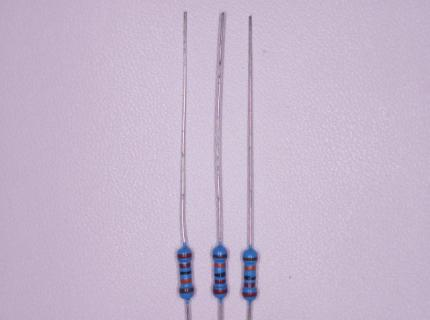Black band: (244, 275, 256, 280), (214, 272, 226, 277), (180, 270, 192, 275)
Brown band: (179, 288, 194, 294), (212, 254, 227, 259), (243, 257, 258, 261)
Orange band: (180, 278, 192, 284), (214, 263, 226, 268), (244, 266, 256, 271)
Red band: (242, 291, 257, 297), (177, 253, 192, 258), (179, 262, 191, 268), (213, 289, 227, 294), (215, 279, 226, 284), (244, 283, 256, 287)
